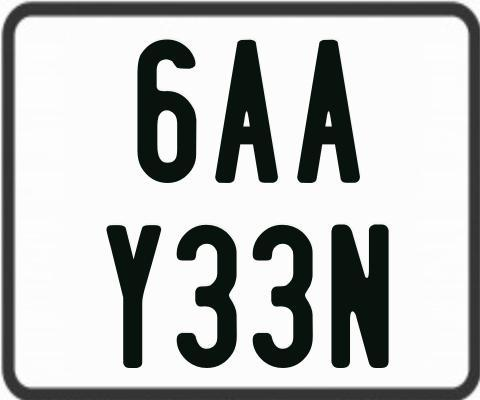3: (177, 222, 238, 371), (252, 224, 312, 371)
6: (136, 40, 196, 189)
A: (215, 37, 282, 180), (295, 38, 358, 182)
N: (329, 224, 388, 374)
Y: (105, 224, 160, 370)
